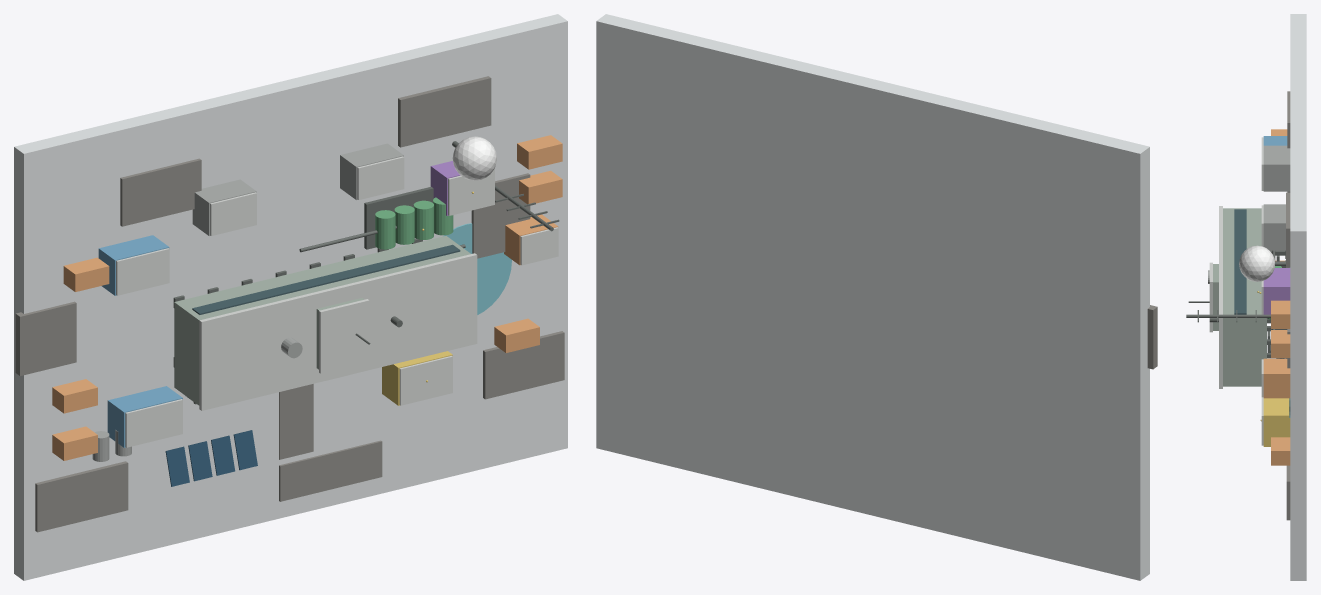
Rendered from maitri.glb.
3 renders of one model, left to right at view 1: azimuth 30°, elevation 25°; view 2: azimuth 150°, elevation 25°; view 3: azimuth 270°, elevation 25°, orthographic. The views are drawn at different scales.
Parts seen in each view (by area): view 1: Antarctic_Terrain, Main_Roof, Main_Building, Rock_Outcrop_3, Rock_Outcrop_1, Rock_Outcrop_2, Rock_Outcrop_6, Rock_Outcrop_5, Rock_Outcrop_4, Central_Entrance_Roof, Rock_Outcrop_7, Main_Window_Band_North (+31 smaller); view 2: Antarctic_Terrain; view 3: Antarctic_Terrain, Main_Building, Utility_Module_2, Main_Window_Band_North, Power_Facility, Utility_Module_3, Utility_Module_1, Communication_Radome, Communication_Facility, Main_Roof, Shipping_Container_6, Shipping_Container_4 (+8 smaller).
Part boxes in pixels (x1,y1,x2,y2): Antarctic_Terrain: (14,14,567,580); Main_Roof: (199,253,477,410); Main_Building: (174,236,470,405); Rock_Outcrop_3: (398,76,491,147); Rock_Outcrop_1: (35,461,128,532); Rock_Outcrop_2: (120,158,201,226); Rock_Outcrop_6: (279,440,382,501); Rock_Outcrop_5: (15,301,76,375); Rock_Outcrop_4: (483,331,564,399); Central_Entrance_Roof: (319,299,369,373); Rock_Outcrop_7: (471,173,530,258); Main_Window_Band_North: (192,244,460,314); Antarctic_Terrain: (596,14,1149,580); Antarctic_Terrain: (1290,14,1306,580); Main_Building: (1223,208,1266,386); Utility_Module_2: (1263,145,1290,191); Main_Window_Band_North: (1234,209,1246,314); Power_Facility: (1263,398,1290,446); Utility_Module_3: (1263,358,1290,398); Utility_Module_1: (1263,204,1285,250); Communication_Radome: (1239,245,1274,281); Communication_Facility: (1263,268,1290,314); Main_Roof: (1219,206,1222,388); Shipping_Container_6: (1271,437,1290,465); Shipping_Container_4: (1271,300,1290,328).
Bounding box in the file's own units: 48.5 × 36 × 11.2.
